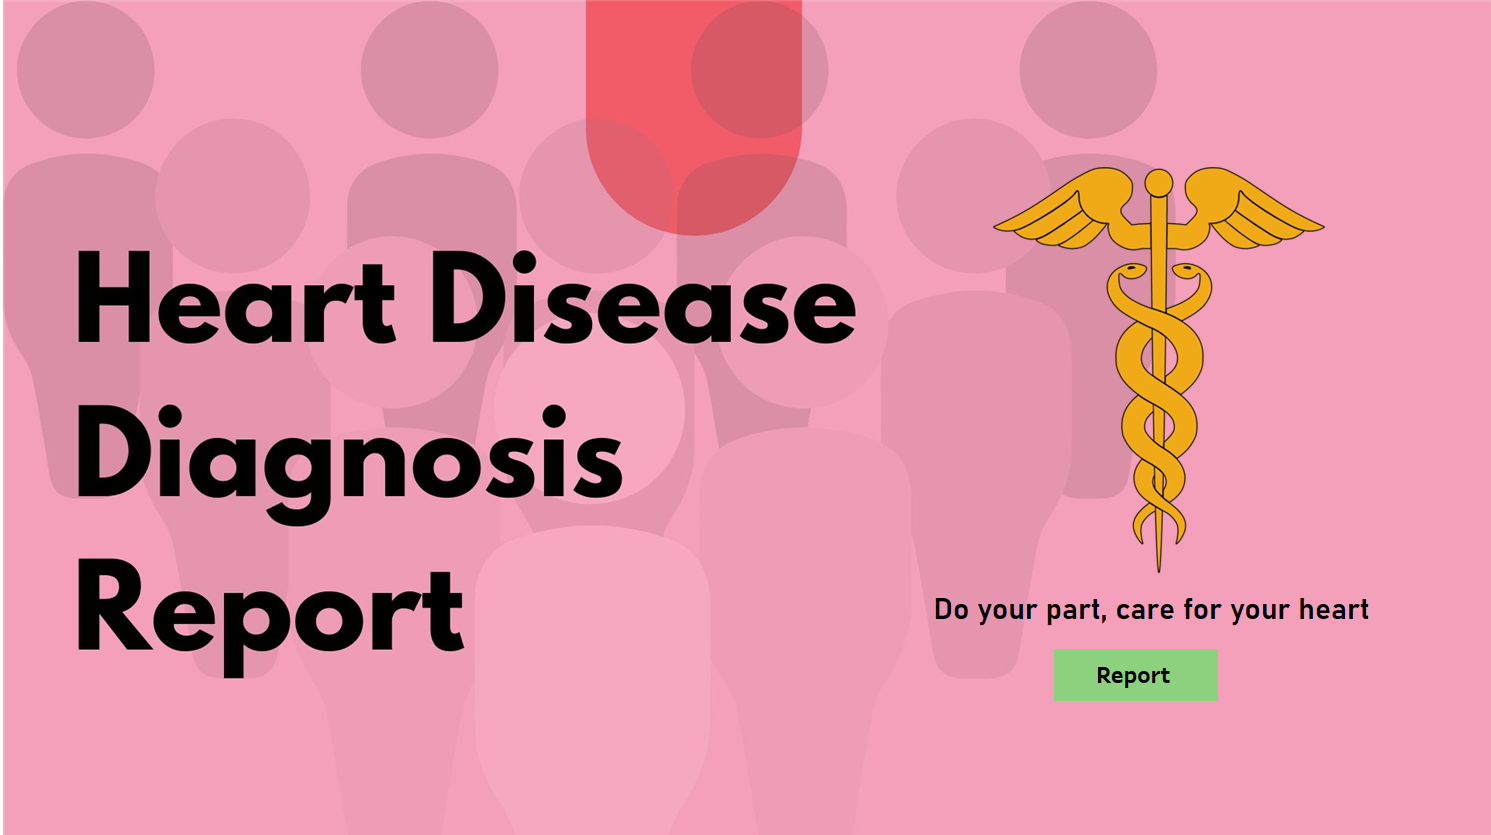

The dashboard page shown, as its layout file describes it:
{"tool":"tableau","page":{"name":"Dashboard 1","canvas":[1000,1000],"units":"permille","ordinal":0},"visuals":[{"type":"image","param":"Image/Home Page.jpg","box":[4.8,9.3,990.3,981.4]},{"type":"image","param":"Image/Symbols.png","box":[604.1,207.9,204,473.9]},{"type":"text","box":[566.7,641.1,267.9,162.6]},{"type":"dashboard-object","box":[641.5,767.7,99,60.4]}]}

Visuals, with their boxes on the dashboard's canvas, which has no fixed pixel size, in thousandths of its width and height (x1, y1, x2, y2). These are canvas units, not pixel positions in the 1491x835 screenshot, which may show the page scaled, cropped or inside an application window:
image: [x1=5, y1=9, x2=995, y2=991]
image: [x1=604, y1=208, x2=808, y2=682]
text: [x1=567, y1=641, x2=835, y2=804]
dashboard-object: [x1=642, y1=768, x2=740, y2=828]
